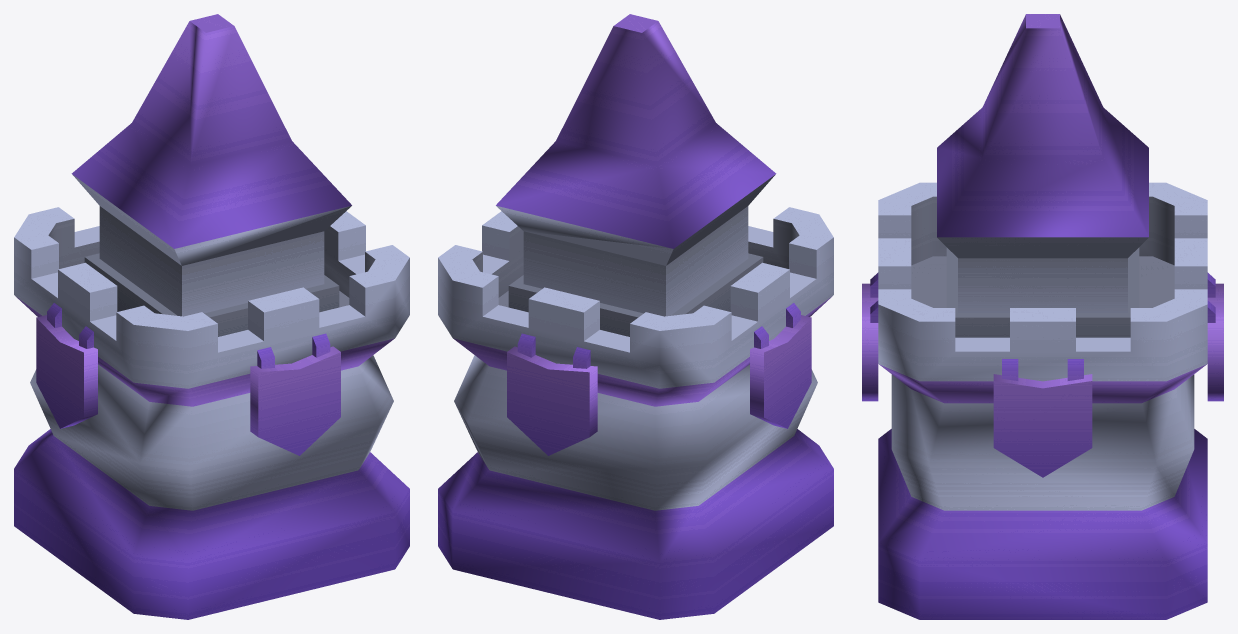
Rendered from tower-square-build-d.glb.
The picture shows the model from 3 angles, left to right: view 1: azimuth 30°, elevation 25°; view 2: azimuth 150°, elevation 25°; view 3: azimuth 270°, elevation 25°; orthographic projection. The views are drawn at different scales.
Visible parts, largest first — view 1: tower-square-build-d; view 2: tower-square-build-d; view 3: tower-square-build-d.
Boxes of the visible parts, box(x1,y1,x2,y2) form: tower-square-build-d: box(14, 14, 409, 619); tower-square-build-d: box(438, 14, 833, 619); tower-square-build-d: box(862, 14, 1223, 619).
Size of the model in its own units: 1.1 by 1.77 by 1.1.
Materials: 1 (1 with a texture image).
